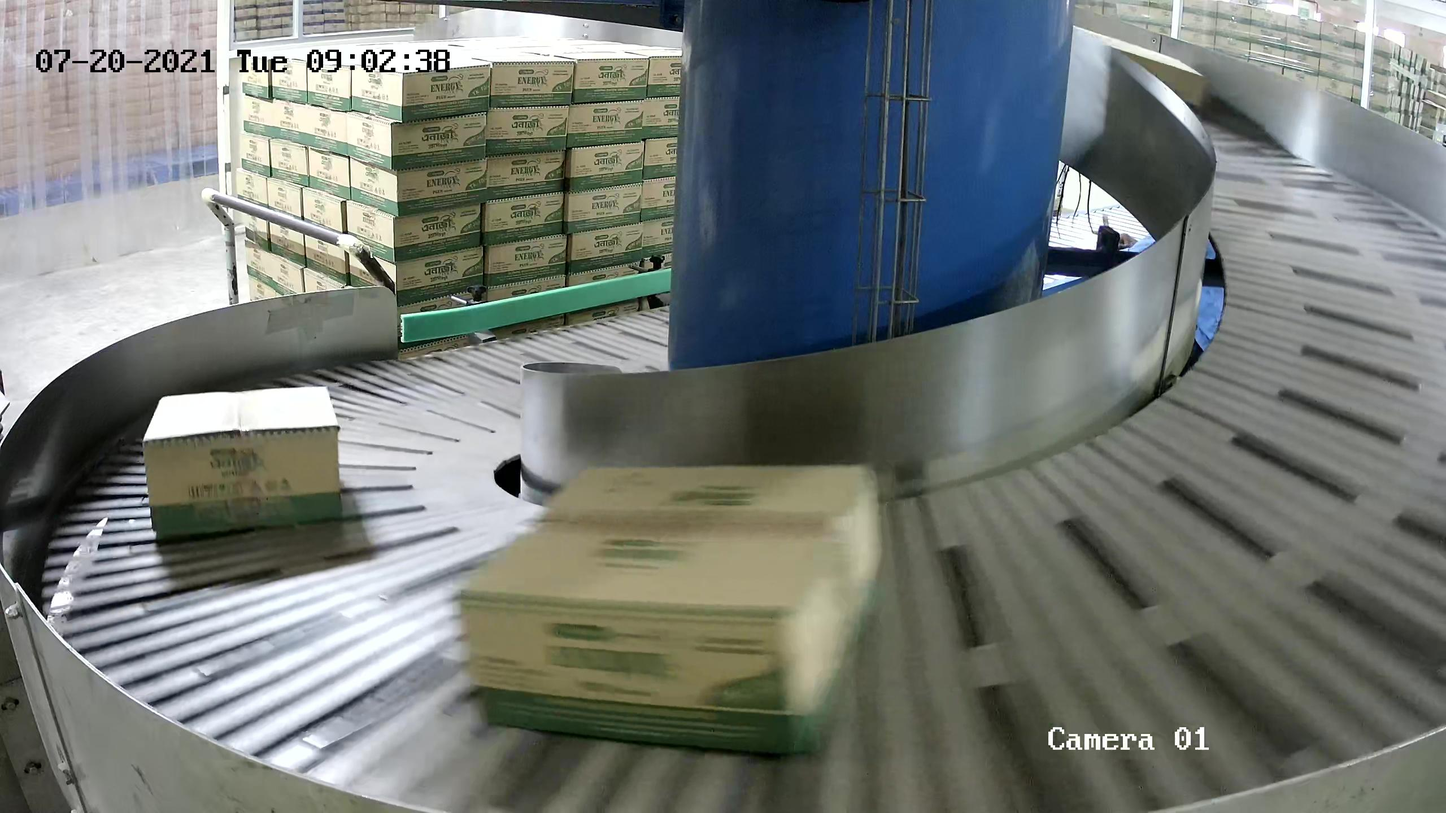Box: (452, 458, 889, 765), (141, 384, 345, 543)
